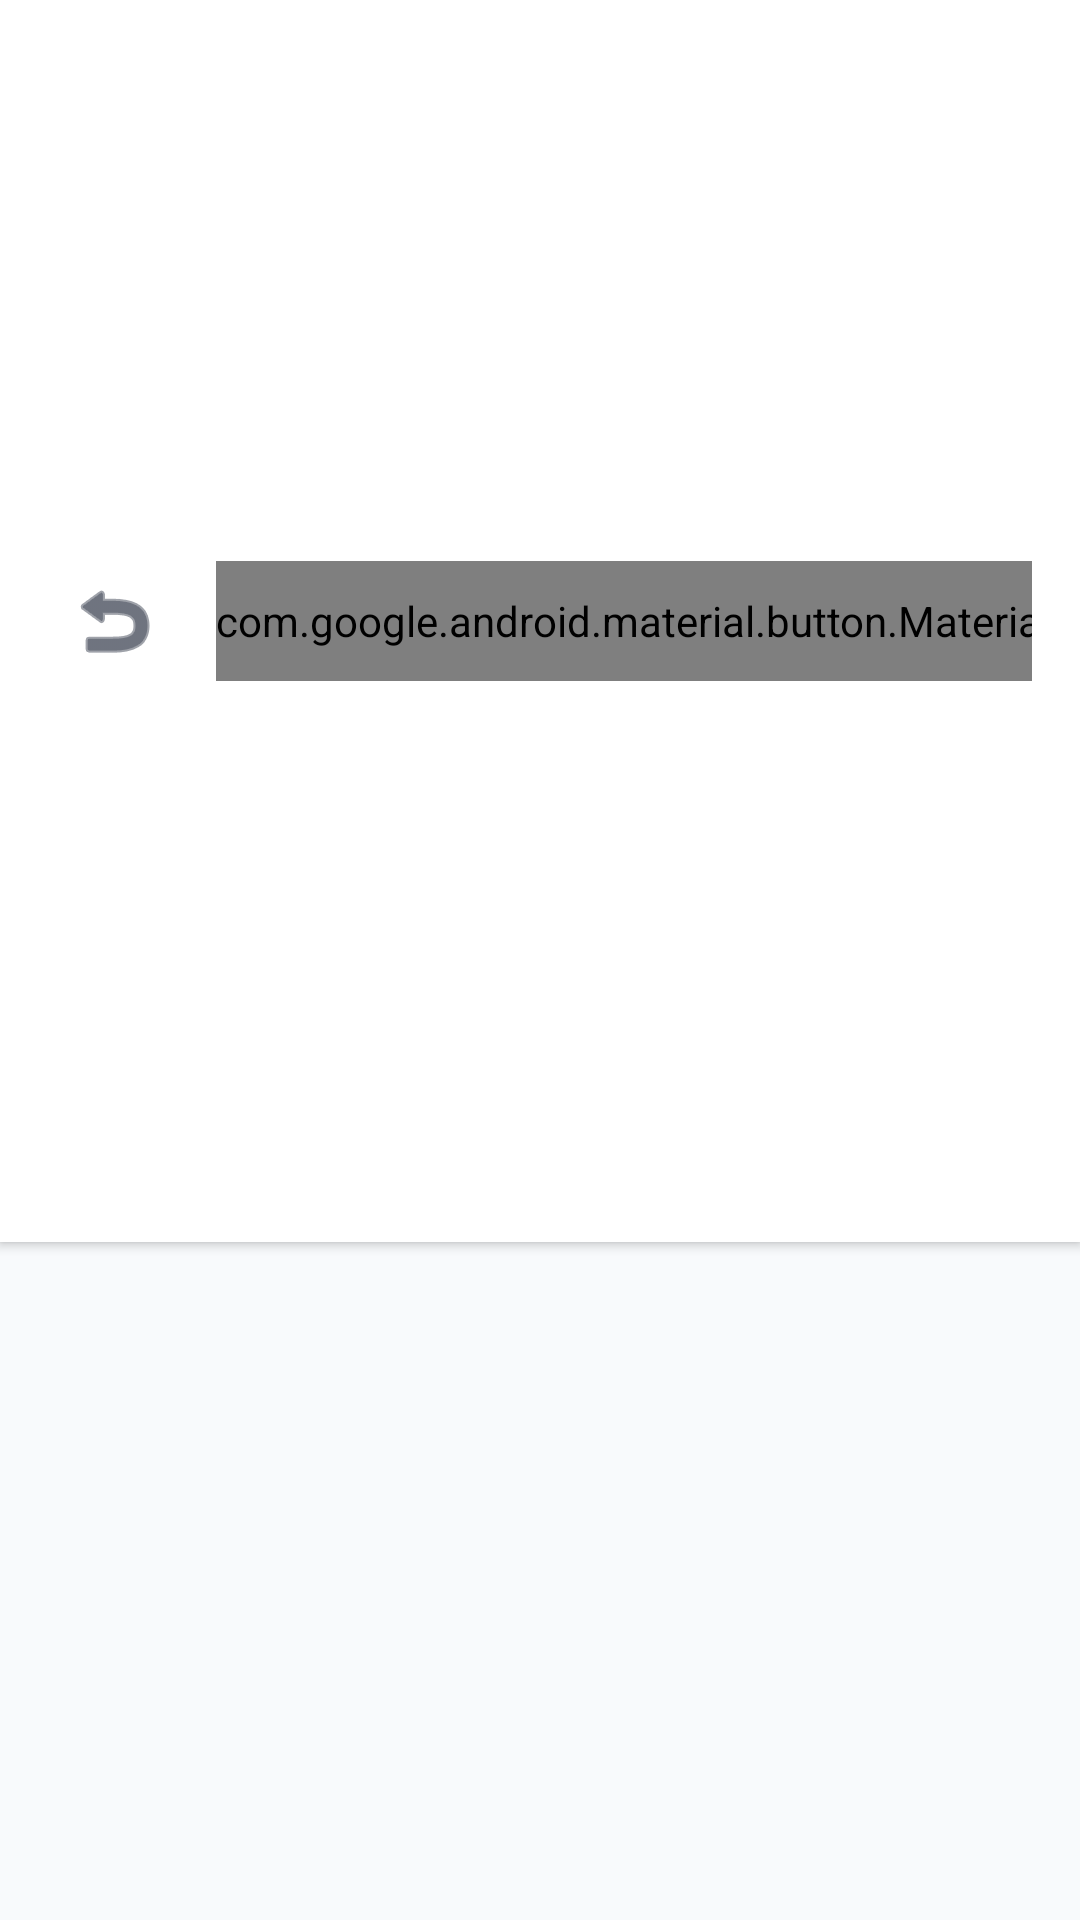

Screen size 1080 x 1920. Icon name, then its center in pixels as (x=x, y=y):
Back: (x=115, y=621)
